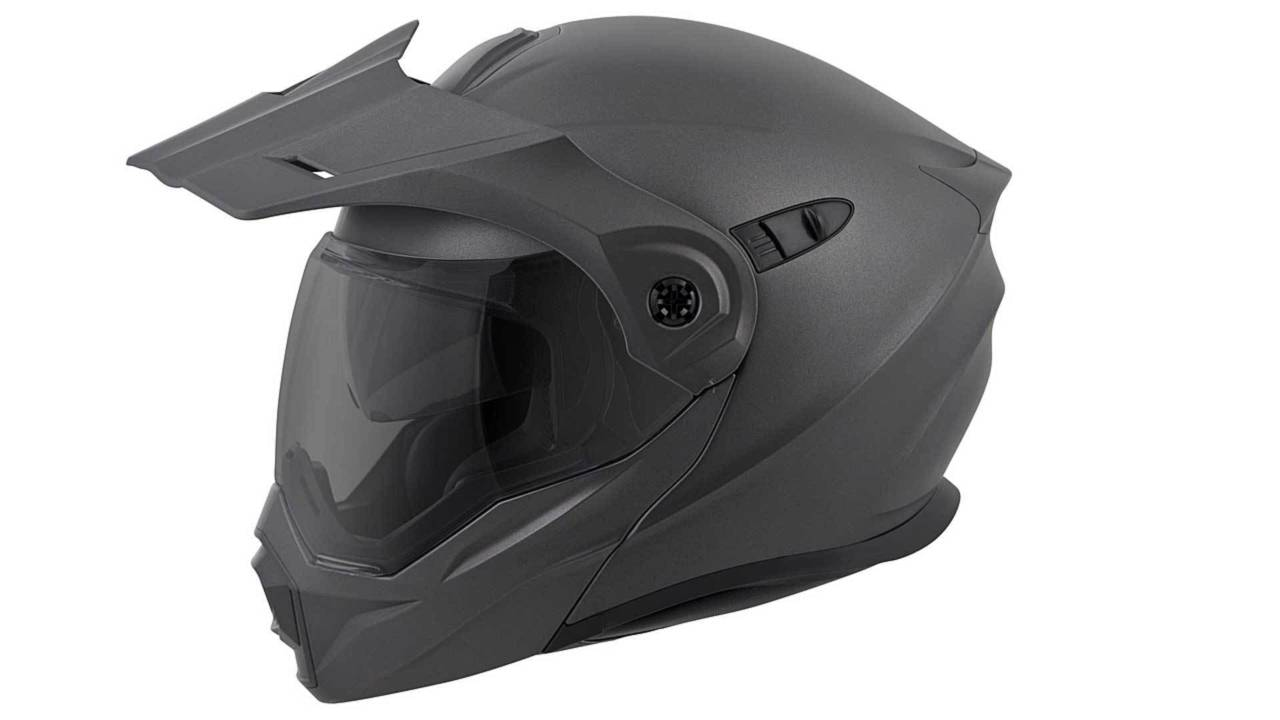with_helmet: (122, 4, 1008, 700)
